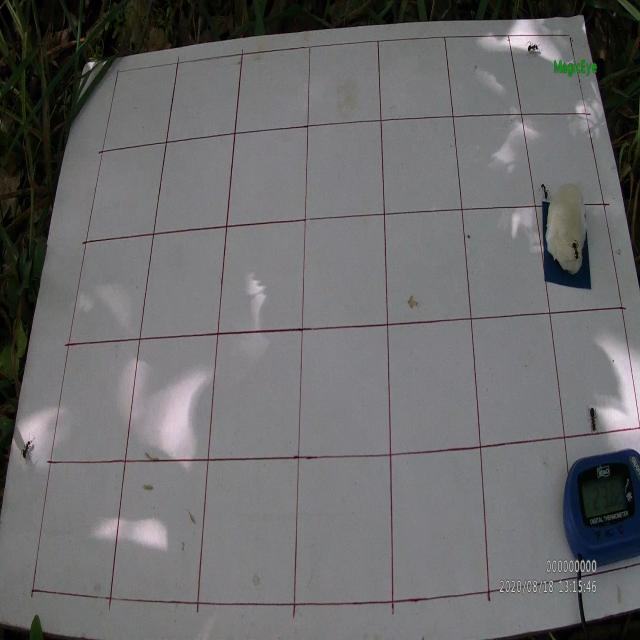Ant: (20, 430, 35, 464), (586, 404, 600, 436), (567, 236, 580, 262), (538, 181, 552, 202), (525, 40, 541, 58)
